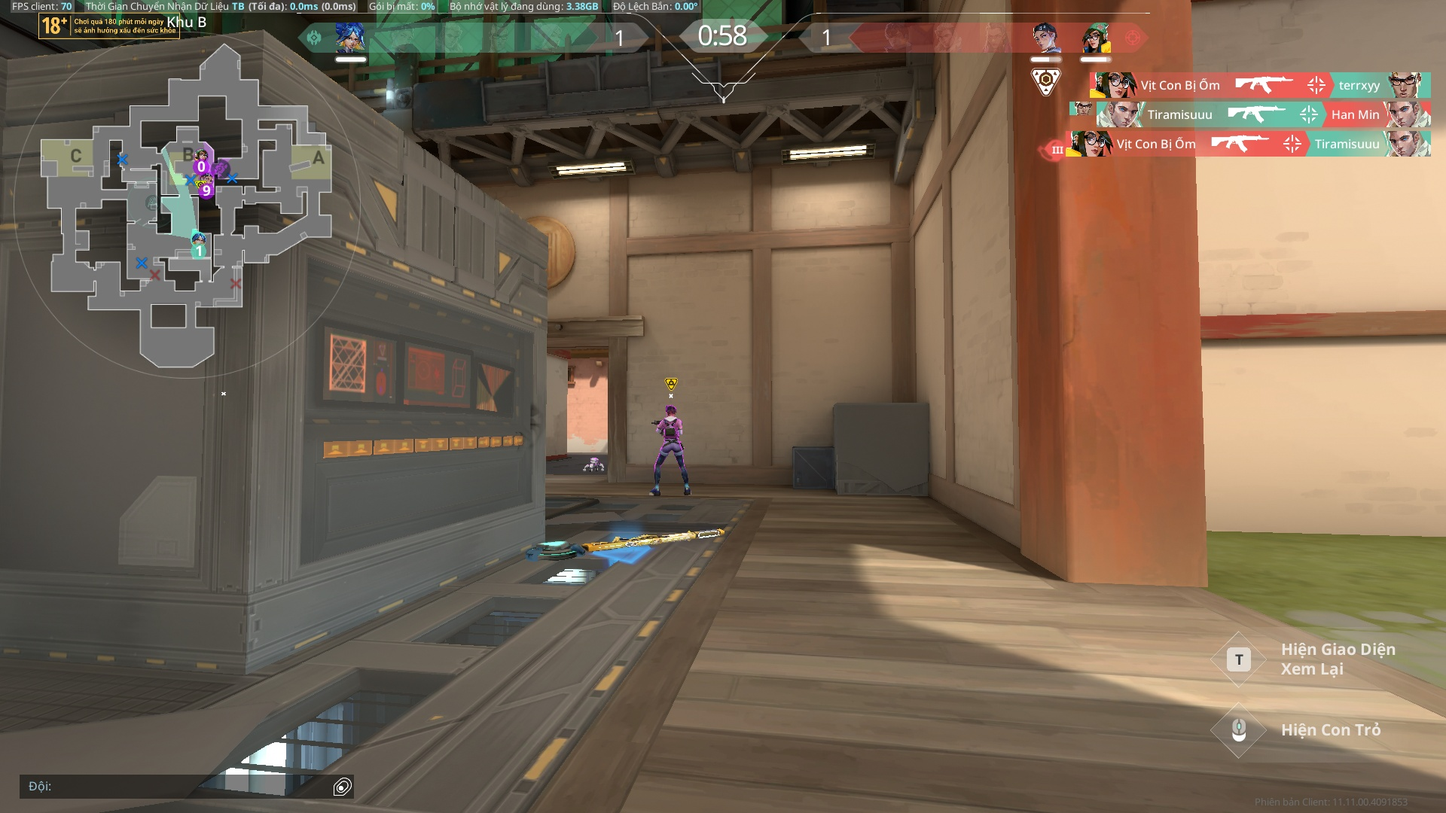body: (660, 415, 683, 439)
head: (664, 404, 677, 416)
